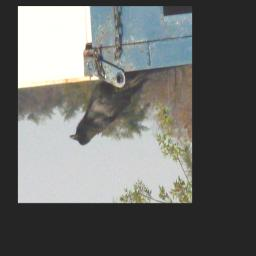Crow: (69, 73, 148, 147)
